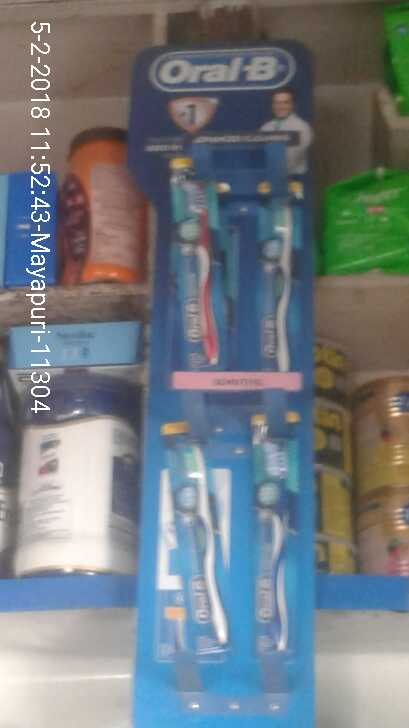oralb: (251, 412, 308, 656), (176, 419, 229, 650), (168, 170, 222, 372), (255, 199, 301, 371)
